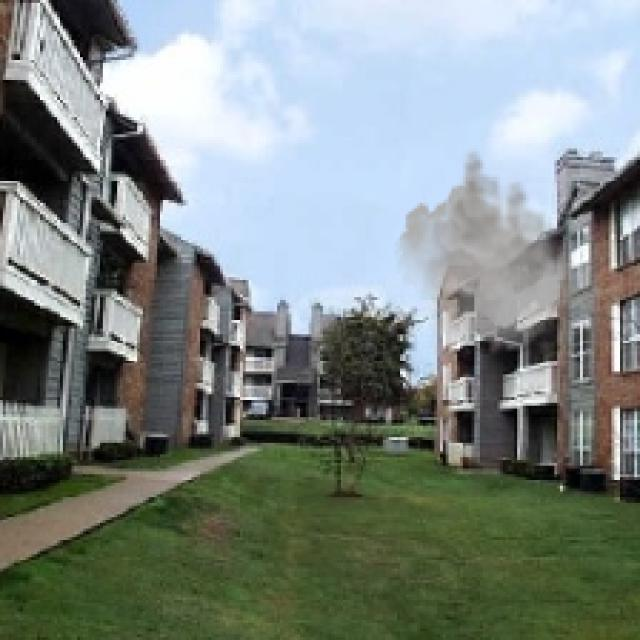Smoke: (394, 142, 597, 358)
